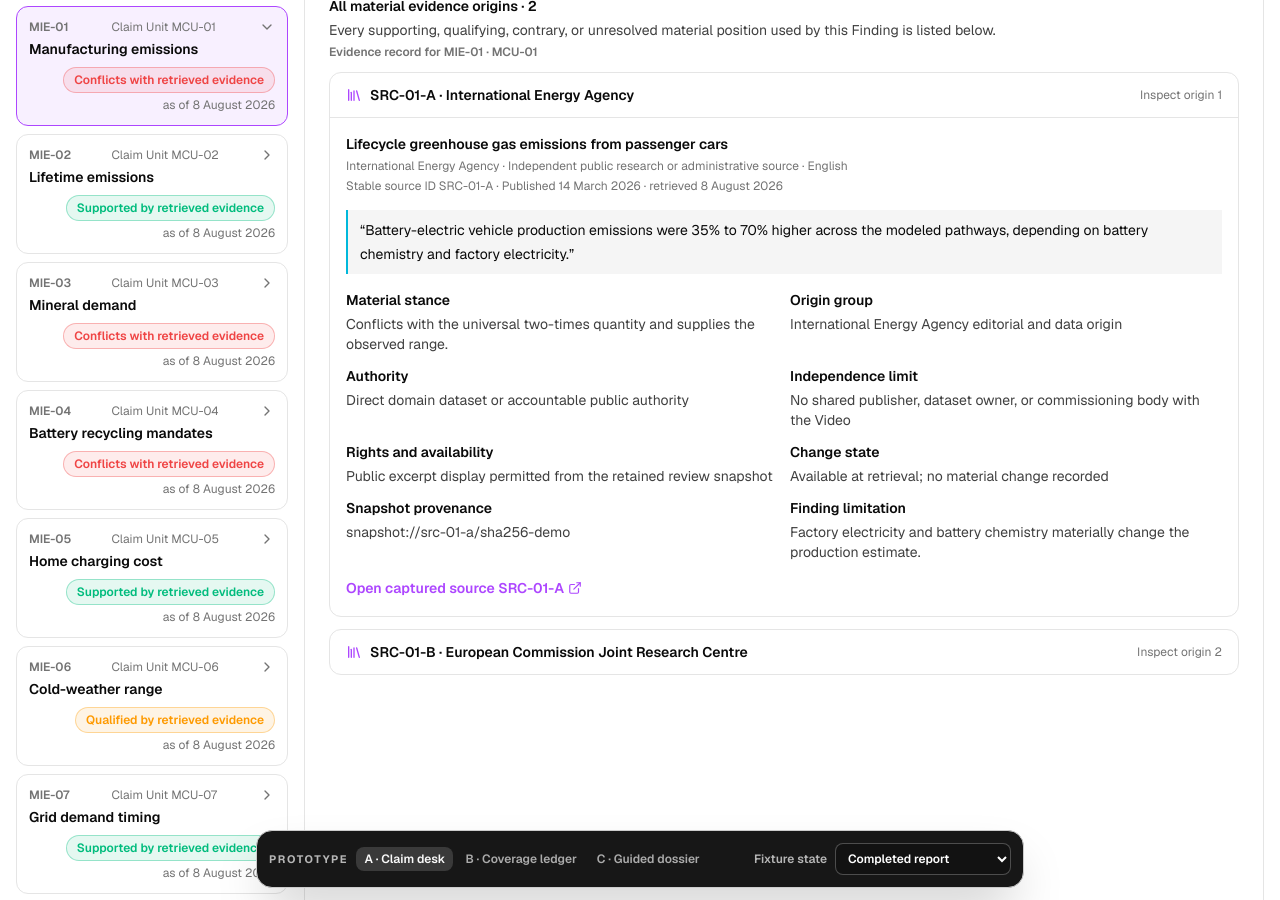
Test: EvidenceWorkspacePrototype › presents Evidence as a peer workspace tab with report coverage, claims, and exact source context
(page scrolled)
What coordinates should you click on to do the following:
click the button "Battery recycling"
I would click on:
 (152, 450)
Its box is [16,390,288,510].
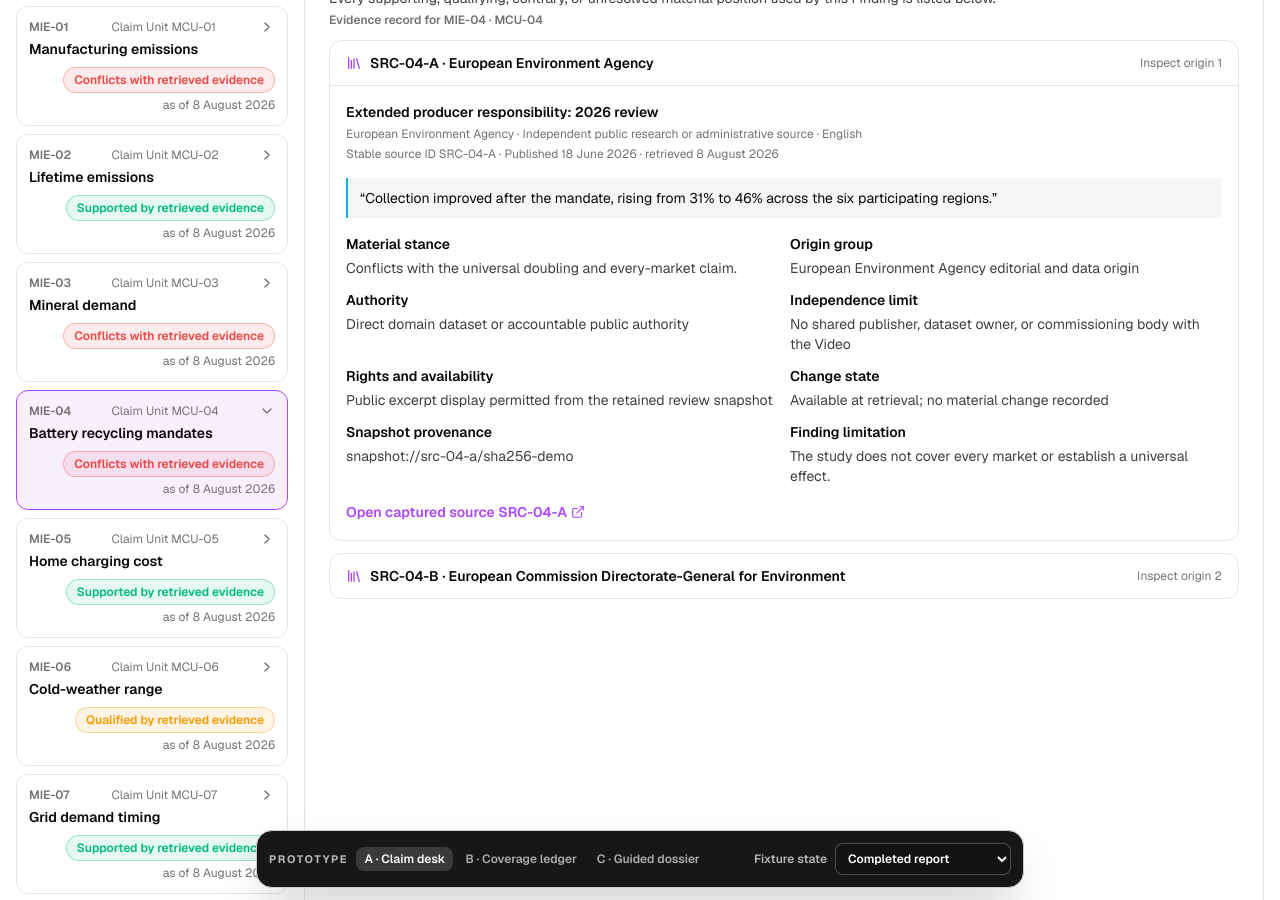
Expected: the text "Evidence record for MIE-04 · MCU-04" is shown, [329,12,543,28]
Expected: the text "Published 18 June 2026" is shown, [504,146,779,162]
Expected: the text "Collection improved after the mandate" is shown, [365,189,992,207]
